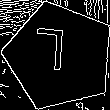L_S: (41, 30, 78, 82)
